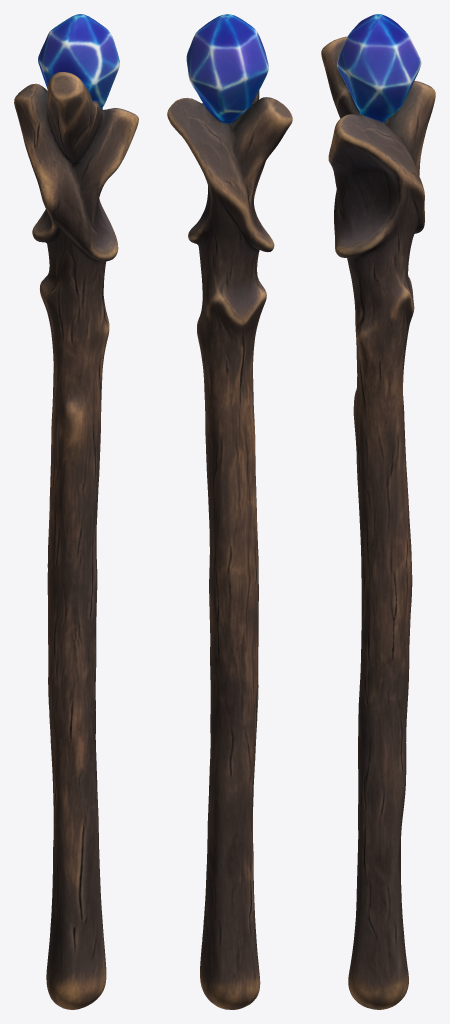
The model's file is staff.glb.
The picture shows the model from 3 angles, left to right: view 1: azimuth 30°, elevation 25°; view 2: azimuth 210°, elevation 25°; view 3: azimuth 270°, elevation 25°; orthographic projection.
Visible parts, largest first — view 1: world; view 2: world; view 3: world.
Part boxes in pixels (x1,y1,x2,y2): world: (14, 14, 138, 1009); world: (167, 14, 292, 1009); world: (321, 14, 435, 1009).
Bounding box in the file's own units: 0.0953 × 1 × 0.1047.
Materials: 1 (1 with a texture image).
